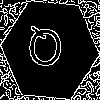Q: (25, 25, 65, 77)
